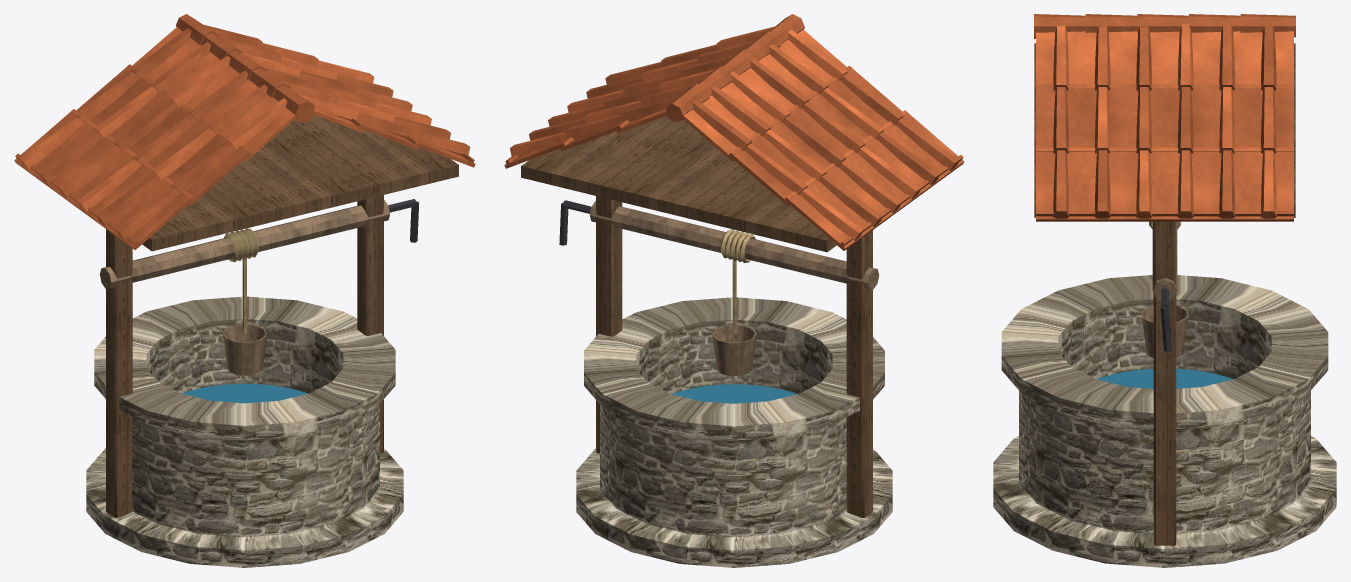
File: water_well.glb
The picture shows the model from 3 angles, left to right: view 1: azimuth 30°, elevation 25°; view 2: azimuth 150°, elevation 25°; view 3: azimuth 270°, elevation 25°; orthographic projection. The views are drawn at different scales.
Visible parts, largest first — view 1: stone, wood_dark, terracotta1, terracotta0, terracotta2, wood, water.001, rope.001; view 2: stone, wood_dark, terracotta1, terracotta0, terracotta2, wood, water.001, rope.001; view 3: stone, terracotta1, terracotta0, terracotta2, wood_dark, wood, water.001, iron.
Boxes of the visible parts, x1,y1,x2,y2 form: stone: (86,296,403,567); wood_dark: (106,115,458,517); terracotta1: (15,14,474,245); terracotta0: (14,38,475,249); terracotta2: (20,27,431,211); wood: (100,200,389,375); water.001: (182,383,307,403); rope.001: (224,228,258,332); stone: (576,297,892,567); wood_dark: (521,116,872,517); terracotta1: (505,14,963,246); terracotta0: (504,40,964,250); terracotta2: (510,26,920,240); wood: (589,201,879,376); water.001: (671,384,797,403); rope.001: (720,229,755,333); stone: (993,275,1336,567); terracotta1: (1034,14,1295,218); terracotta0: (1036,24,1293,221); terracotta2: (1036,23,1293,218); wood_dark: (1034,43,1295,545); wood: (1141,221,1188,358); water.001: (1097,368,1232,388); iron: (1160,287,1171,351).
Size of the model in its own units: 2.51 by 3.03 by 1.97.
9 materials, 8 textured.
